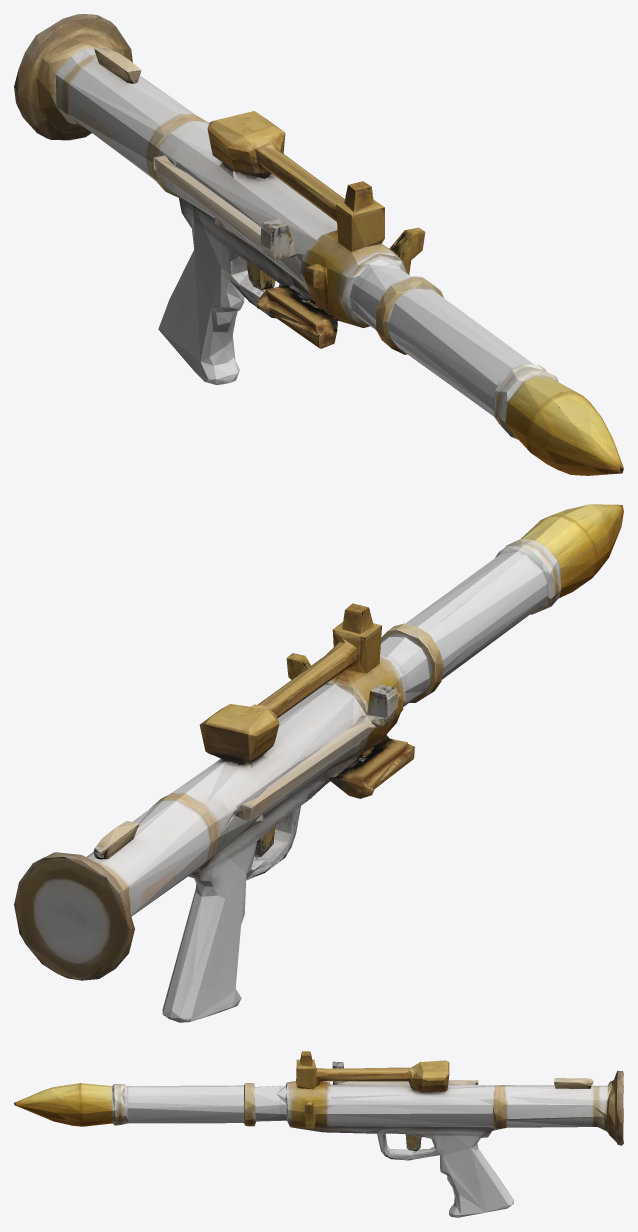
File: white_RPG7.glb
3 renders of one model, top to bottom at view 1: azimuth 30°, elevation 25°; view 2: azimuth 150°, elevation 25°; view 3: azimuth 270°, elevation 25°, orthographic. The views are drawn at different scales.
Parts seen in each view (by area): view 1: geometry_0; view 2: geometry_0; view 3: geometry_0.
Boxes of the visible parts, x1=… form: geometry_0: x1=14, y1=14, x2=623, y2=475; geometry_0: x1=14, y1=504, x2=623, y2=1022; geometry_0: x1=14, y1=1051, x2=623, y2=1217.
Size of the model in its own units: 0.136 by 0.2951 by 1.
Materials: 1 (1 with a texture image).
